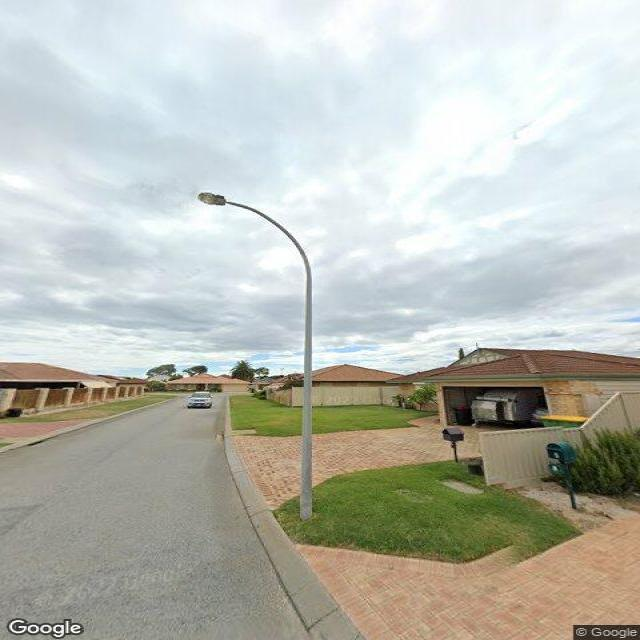steel-pole: (298, 265, 313, 522)
streetlight: (198, 191, 312, 278)
